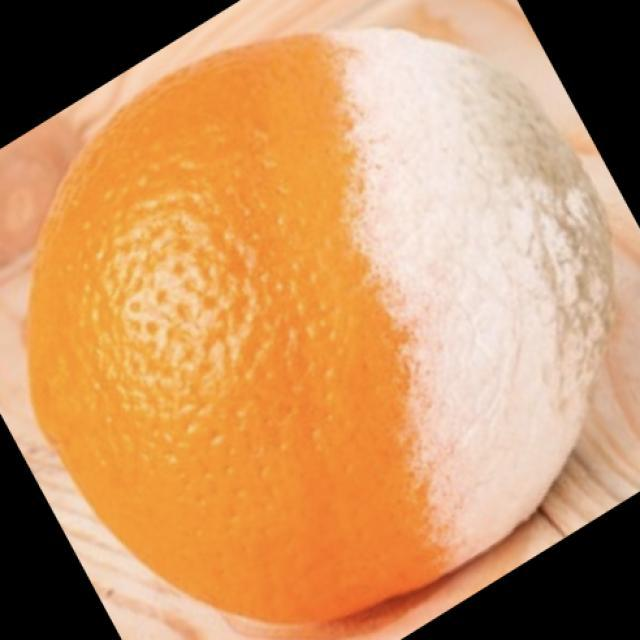sangat-busuk: (27, 30, 612, 624)
